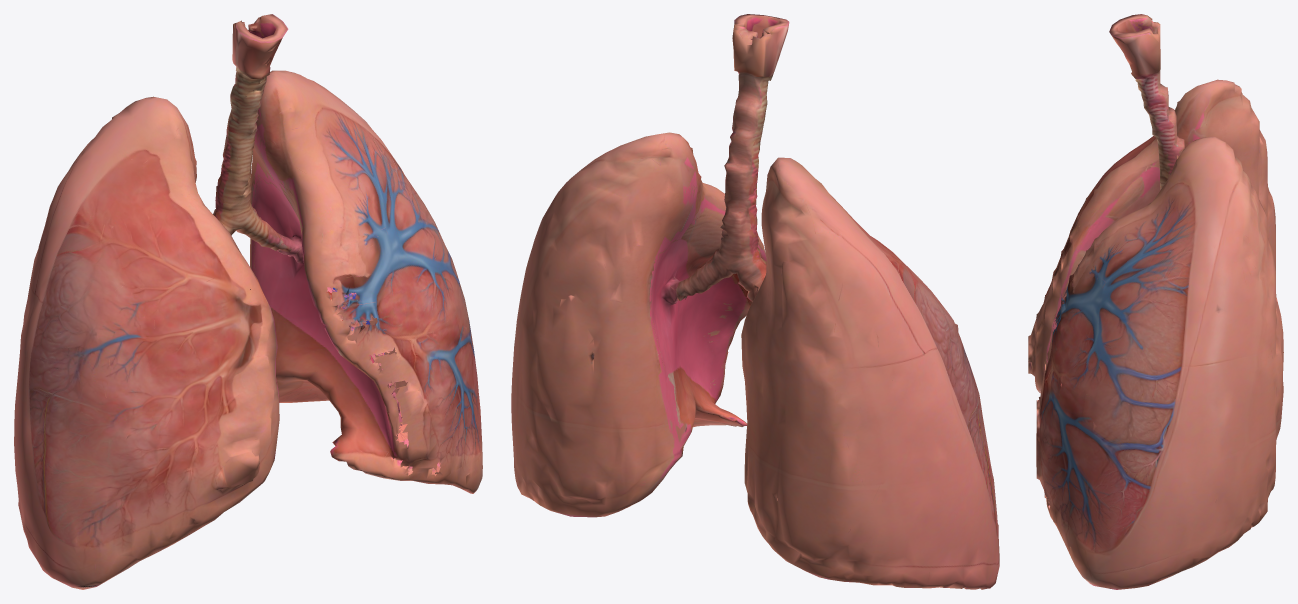
Rendered from lungs.glb.
The picture shows the model from 3 angles, left to right: view 1: azimuth 30°, elevation 25°; view 2: azimuth 150°, elevation 25°; view 3: azimuth 270°, elevation 25°; orthographic projection. The views are drawn at different scales.
Size of the model in its own units: 1.83 by 1.99 by 0.9678.
Materials: 1 (1 with a texture image).
